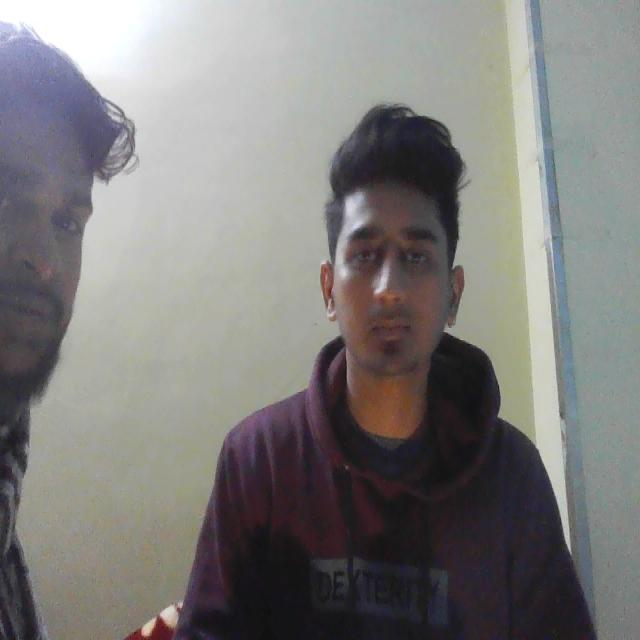real: (324, 128, 470, 404)
